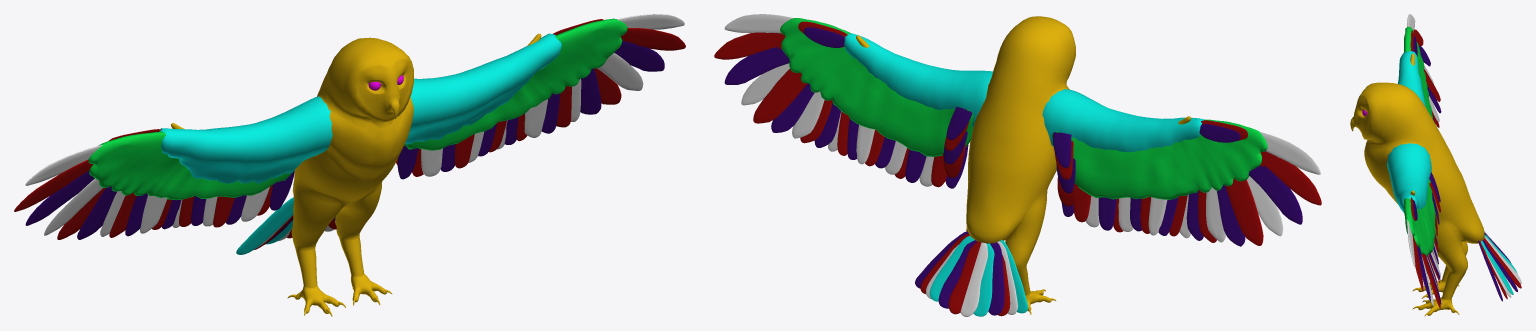
The model's file is Leonardo_AlpireVillarroel_TFG_modeloLowpoly.fbx.
3 renders of one model, left to right at view 1: azimuth 30°, elevation 25°; view 2: azimuth 150°, elevation 25°; view 3: azimuth 270°, elevation 25°, orthographic. The views are drawn at different scales.
Parts seen in each view (by area): view 1: body_low, coversUpper_low, coversMedium_low, primary09_low, primary08_low, primary07_low, primary10_low, primary05_low, primary01_low, primary06_low, primary03_low, secundary09_low (+10 smaller); view 2: coversMedium_low, body_low, coversUpper_low, primary06_low, primary08_low, primary09_low, primary10_low, primary07_low, primary05_low, primary04_low, alula02_low, primary02_low (+23 smaller); view 3: body_low, coversUpper_low, coversMedium_low, primary06_low, primary08_low, primary09_low, primary10_low, tail03_l_low, tail01_l_low, tail02_l_low, primary05_low, tail06_l_low (+6 smaller).
Part boxes in pixels (box(x1,y1,x2,y2)): body_low: box(171, 33, 541, 313); coversUpper_low: box(159, 33, 561, 183); coversMedium_low: box(88, 18, 627, 200); primary09_low: box(14, 28, 685, 211); primary08_low: box(25, 41, 664, 225); primary07_low: box(44, 53, 643, 235); primary10_low: box(25, 14, 684, 185); primary05_low: box(77, 68, 601, 239); primary01_low: box(140, 99, 547, 233); primary06_low: box(57, 68, 621, 239); primary03_low: box(109, 86, 571, 237); secundary09_low: box(241, 148, 442, 221); coversMedium_low: box(780, 18, 1267, 199); body_low: box(856, 16, 1190, 311); coversUpper_low: box(844, 33, 1204, 152); primary06_low: box(753, 69, 1263, 245); primary08_low: box(724, 47, 1302, 224); primary09_low: box(714, 32, 1321, 205); primary10_low: box(724, 14, 1320, 174); primary07_low: box(741, 63, 1283, 236); primary05_low: box(771, 83, 1245, 246); primary04_low: box(792, 91, 1225, 242); alula02_low: box(803, 27, 1240, 142); primary02_low: box(814, 103, 1203, 240); body_low: box(1350, 53, 1484, 315); coversUpper_low: box(1387, 51, 1431, 212); coversMedium_low: box(1404, 26, 1435, 256); primary06_low: box(1421, 69, 1440, 308); primary08_low: box(1417, 45, 1430, 301); primary09_low: box(1412, 29, 1423, 290); primary10_low: box(1407, 14, 1415, 266); tail03_l_low: box(1480, 240, 1513, 294); tail01_l_low: box(1484, 238, 1521, 288); tail02_l_low: box(1482, 239, 1517, 291); primary05_low: box(1426, 85, 1441, 304); tail06_l_low: box(1478, 240, 1502, 301).
Size of the model in its own units: 993 by 396 by 286.
